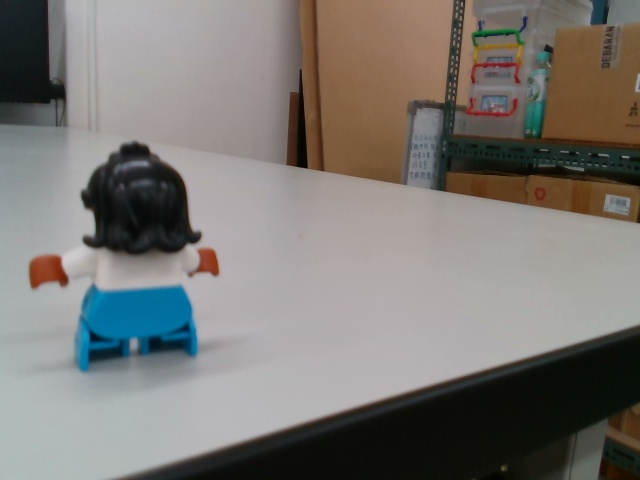people: (27, 139, 225, 377)
